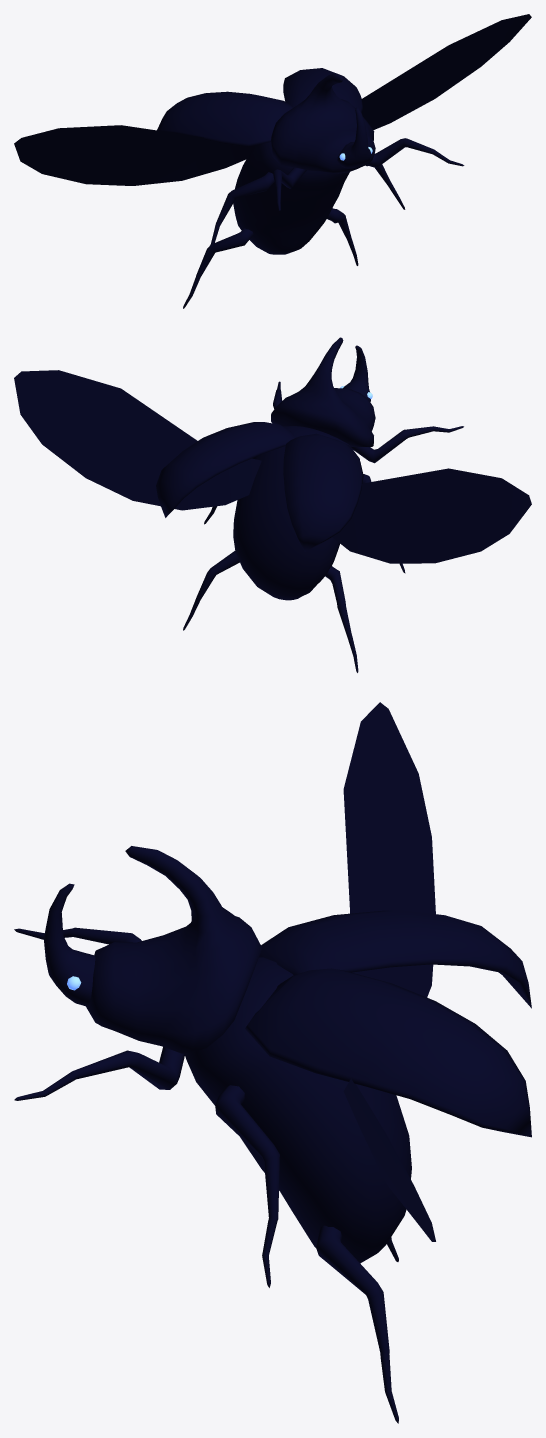
The model's file is beetle_air.fbx.
3 views of the same model, one above another, from view 1: azimuth 30°, elevation 25°; view 2: azimuth 150°, elevation 25°; view 3: azimuth 270°, elevation 25° (orthographic). The views are drawn at different scales.
Visible parts, largest first — view 1: Sphere.018, Vert.003, Vert.004; view 2: Sphere.018, Vert.004, Vert.003; view 3: Sphere.018, Vert.003, Vert.004.
Part boxes in pixels (box(x1,y1,x2,y2)): Sphere.018: box(157, 68, 464, 308); Vert.003: box(14, 125, 253, 185); Vert.004: box(361, 14, 531, 129); Sphere.018: box(156, 337, 463, 672); Vert.004: box(14, 370, 261, 510); Vert.003: box(332, 468, 531, 563); Sphere.018: box(14, 846, 531, 1423); Vert.003: box(343, 702, 435, 997); Vert.004: box(343, 1078, 435, 1241).
Bounding box in the file's own units: 1010 × 490 × 463.
